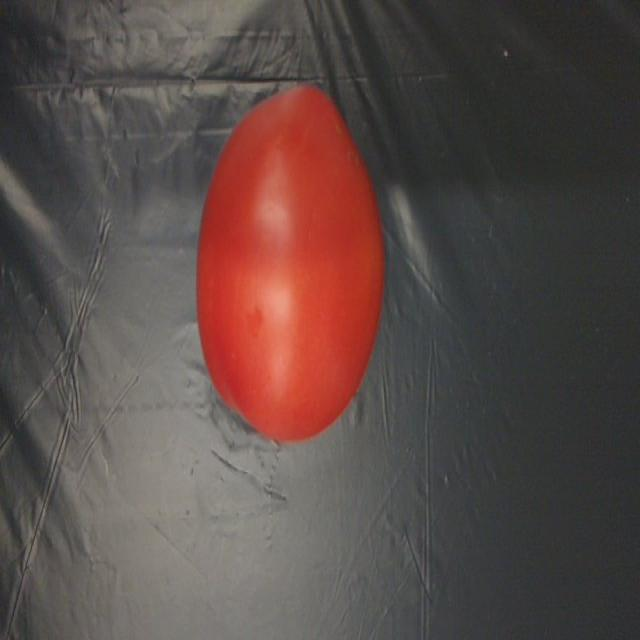kirmizi: (197, 76, 399, 450)
